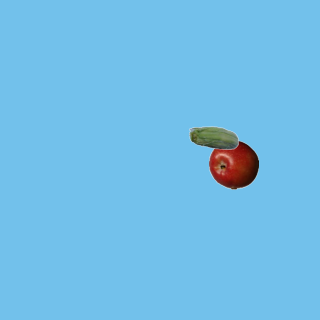Apple Braeburn: (208, 139, 258, 189)
Corn Husk: (188, 114, 238, 164)
